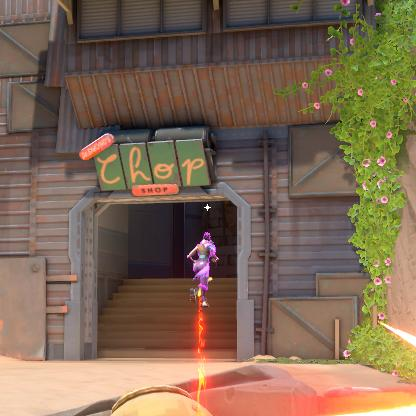enemyBody: (192, 234, 219, 288)
enemyHead: (202, 234, 217, 242)
